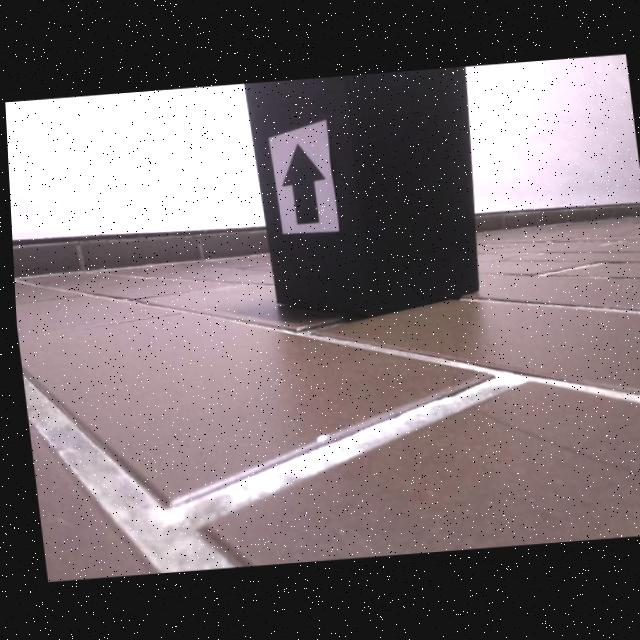UP: (279, 143, 325, 225)
